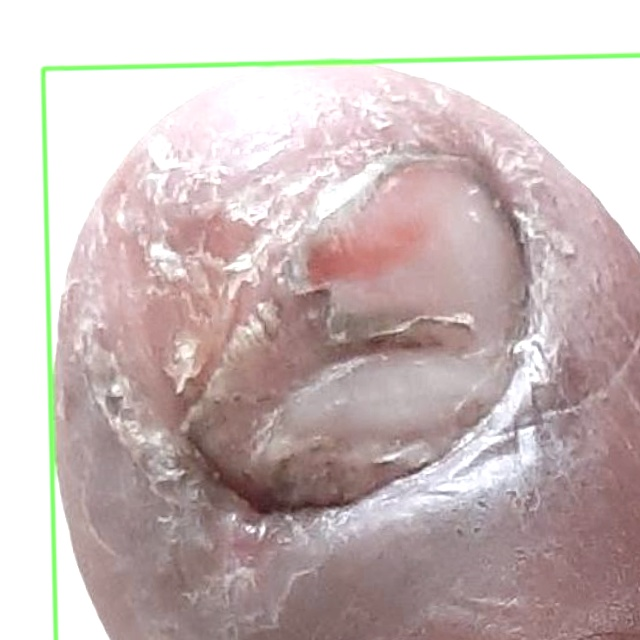Contact Dermatitis: (43, 55, 639, 639)
